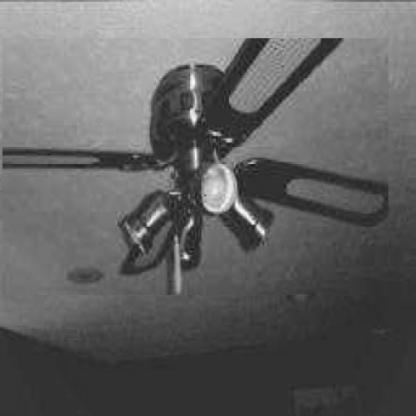ceiling-fan: (2, 38, 390, 296)
